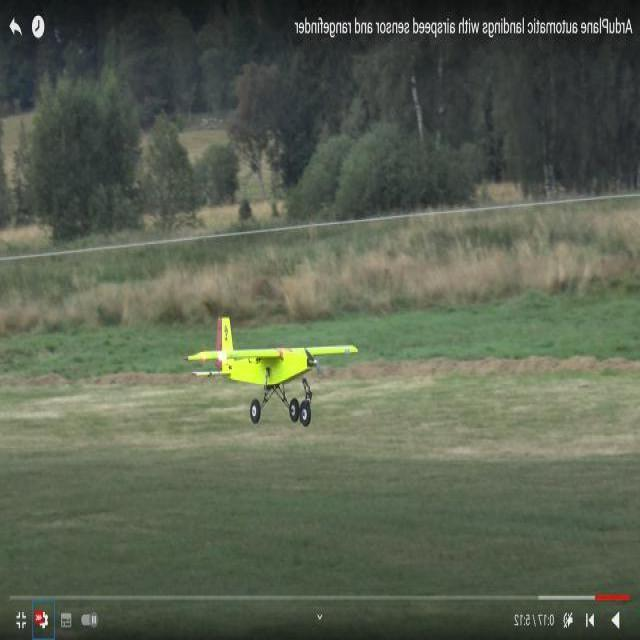UAV: (214, 314, 362, 431)
